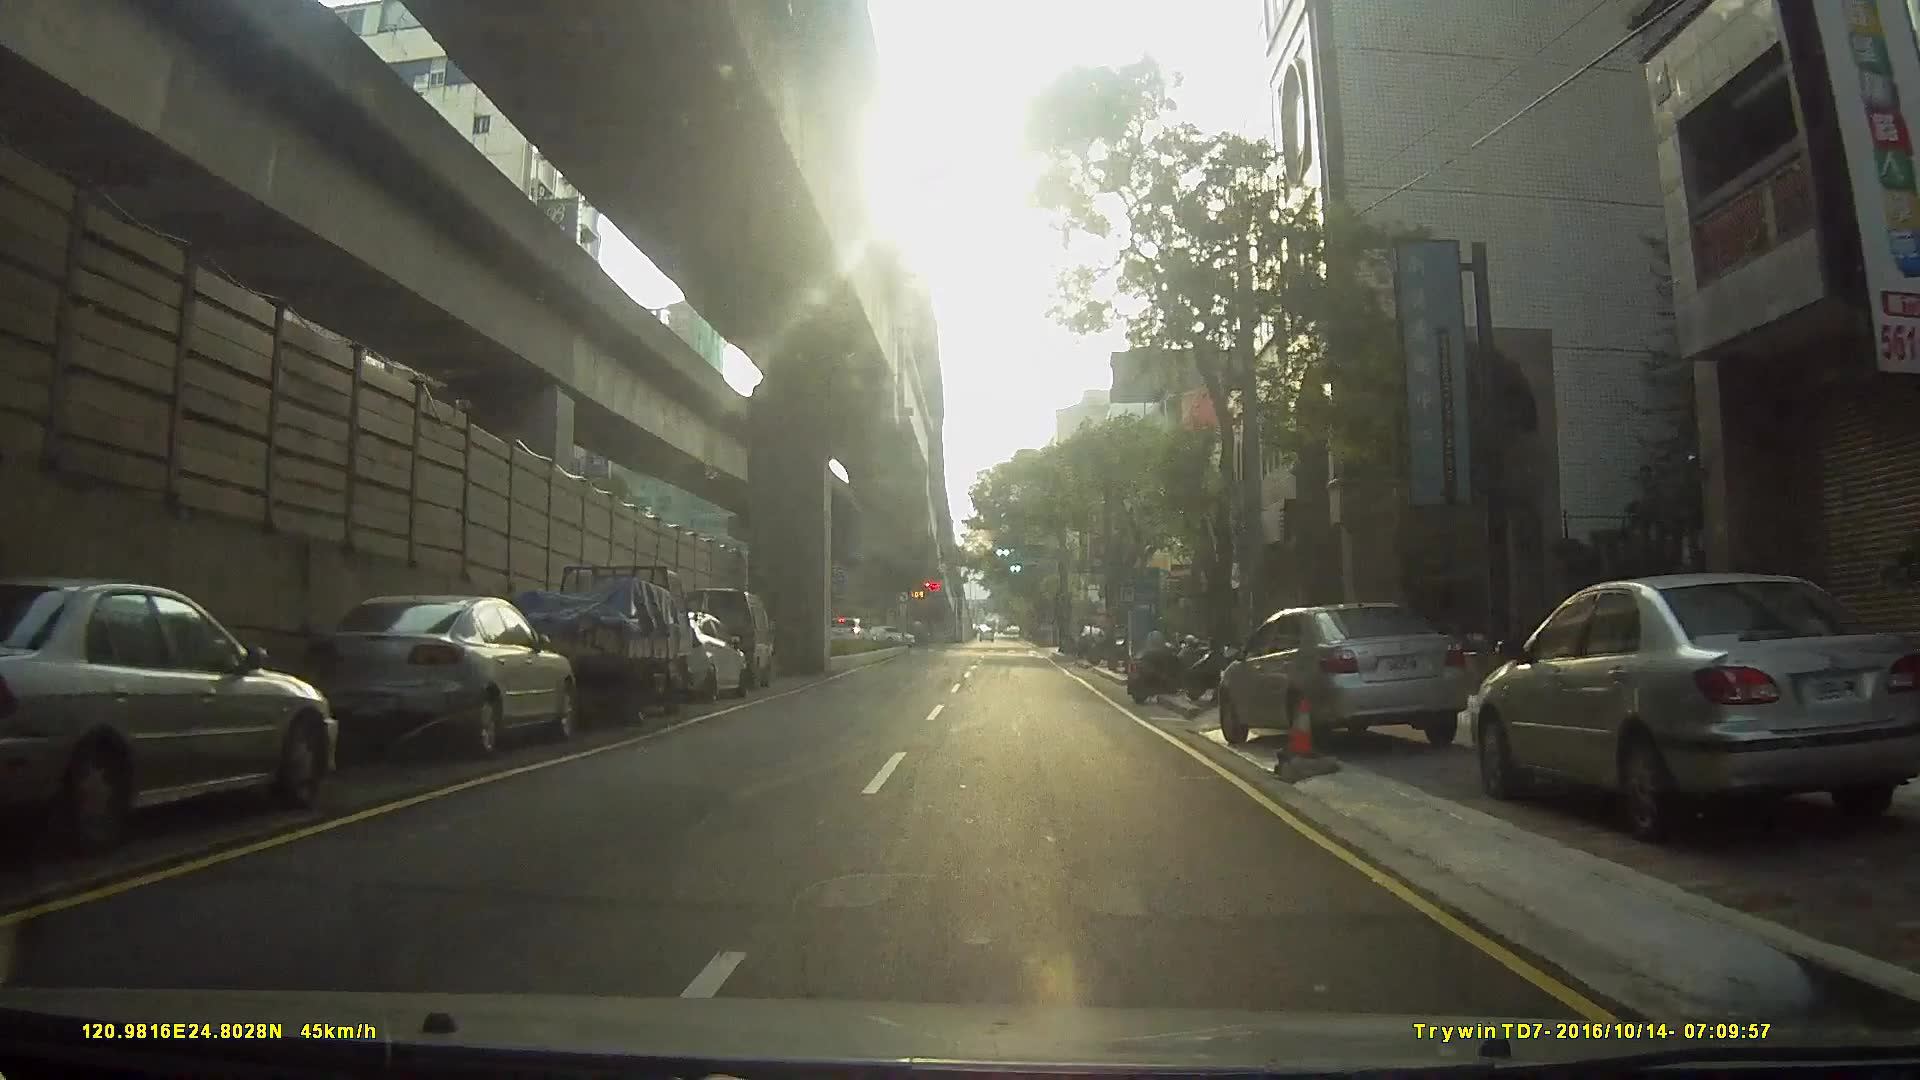rider: (1128, 622, 1206, 707)
vehicle: (1452, 562, 1909, 867), (1, 583, 340, 848), (280, 592, 581, 764), (1222, 598, 1487, 750), (496, 562, 702, 728), (629, 608, 748, 704), (821, 614, 875, 650)
